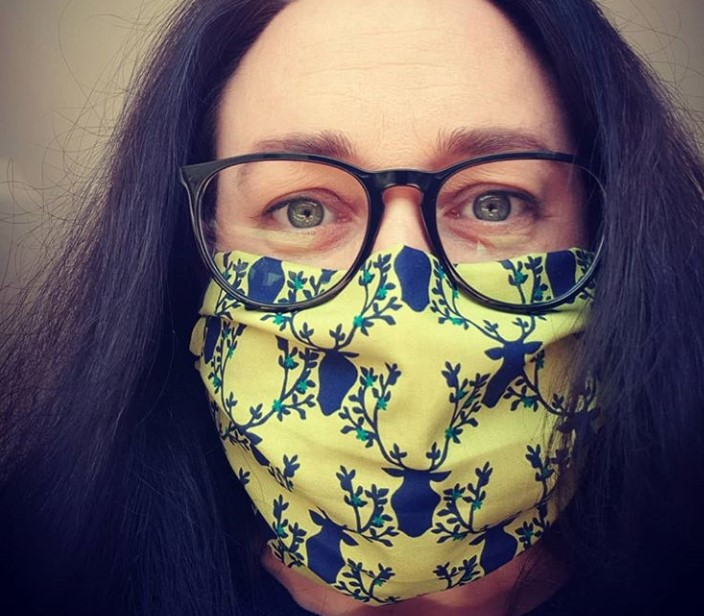face_with_mask: (154, 3, 661, 611)
